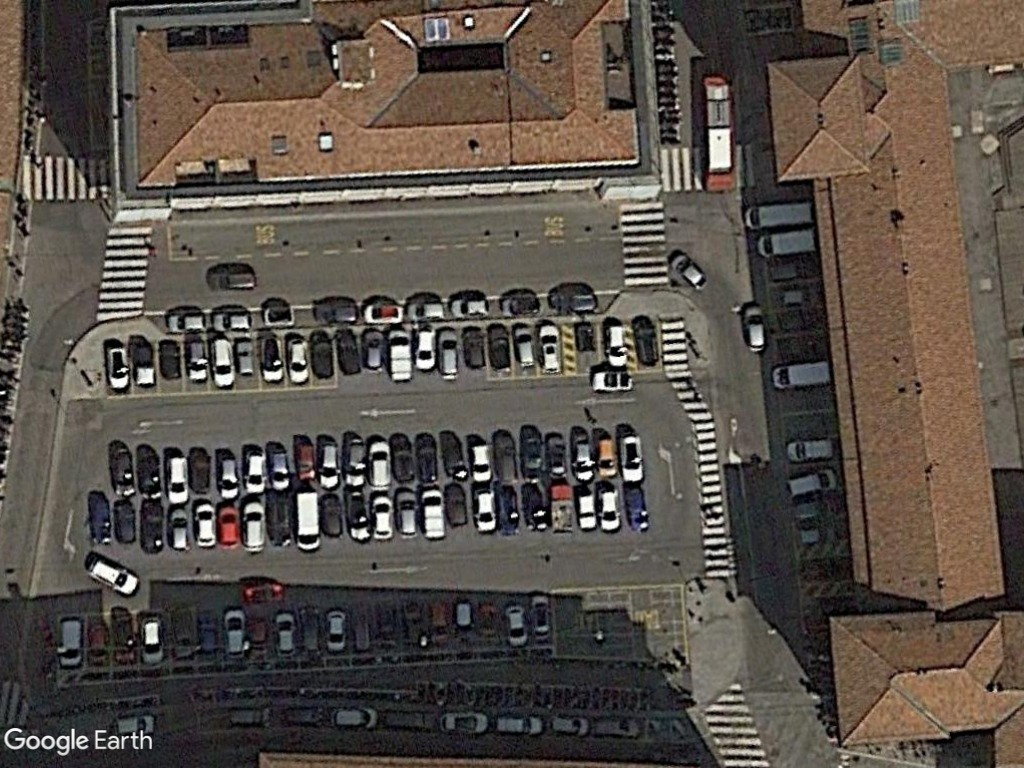bus: (698, 74, 742, 196)
car: (83, 553, 143, 599), (613, 426, 647, 485), (785, 463, 837, 501), (532, 320, 566, 376), (206, 336, 239, 393), (668, 248, 710, 292), (365, 435, 395, 495), (54, 616, 86, 672), (411, 429, 443, 485), (161, 451, 192, 508), (629, 314, 662, 367), (566, 428, 597, 484), (779, 434, 837, 463), (434, 325, 463, 383), (339, 433, 369, 489), (106, 442, 136, 498), (326, 704, 383, 733), (281, 332, 311, 387), (102, 341, 132, 395), (321, 605, 352, 657), (424, 597, 453, 652), (435, 709, 491, 737), (203, 266, 259, 294), (271, 609, 300, 663), (387, 430, 416, 484), (600, 320, 631, 370), (508, 323, 539, 373), (484, 321, 513, 374), (242, 445, 271, 498), (213, 449, 242, 502), (594, 479, 623, 532), (242, 497, 268, 556), (739, 300, 767, 354), (257, 333, 285, 387), (541, 428, 569, 482), (136, 614, 165, 666), (499, 600, 529, 650), (214, 503, 242, 556), (587, 366, 638, 395), (492, 712, 546, 739), (316, 437, 342, 493), (357, 326, 387, 374), (266, 441, 293, 494), (465, 437, 494, 486), (291, 436, 320, 485), (221, 604, 247, 658), (182, 338, 211, 386), (347, 489, 373, 542), (447, 293, 497, 320), (310, 300, 360, 327), (192, 499, 217, 552), (358, 299, 407, 326), (474, 481, 498, 535), (394, 486, 417, 541), (84, 621, 109, 671), (593, 433, 618, 483), (410, 326, 436, 374), (210, 307, 254, 335), (527, 591, 550, 644), (161, 311, 211, 335), (371, 491, 395, 541), (166, 502, 190, 552), (573, 488, 598, 536), (231, 337, 259, 379), (545, 714, 592, 739), (403, 296, 447, 322)
van: (740, 197, 812, 231), (768, 357, 830, 392), (293, 488, 322, 554), (756, 229, 815, 261), (383, 326, 415, 384), (419, 485, 446, 543)
